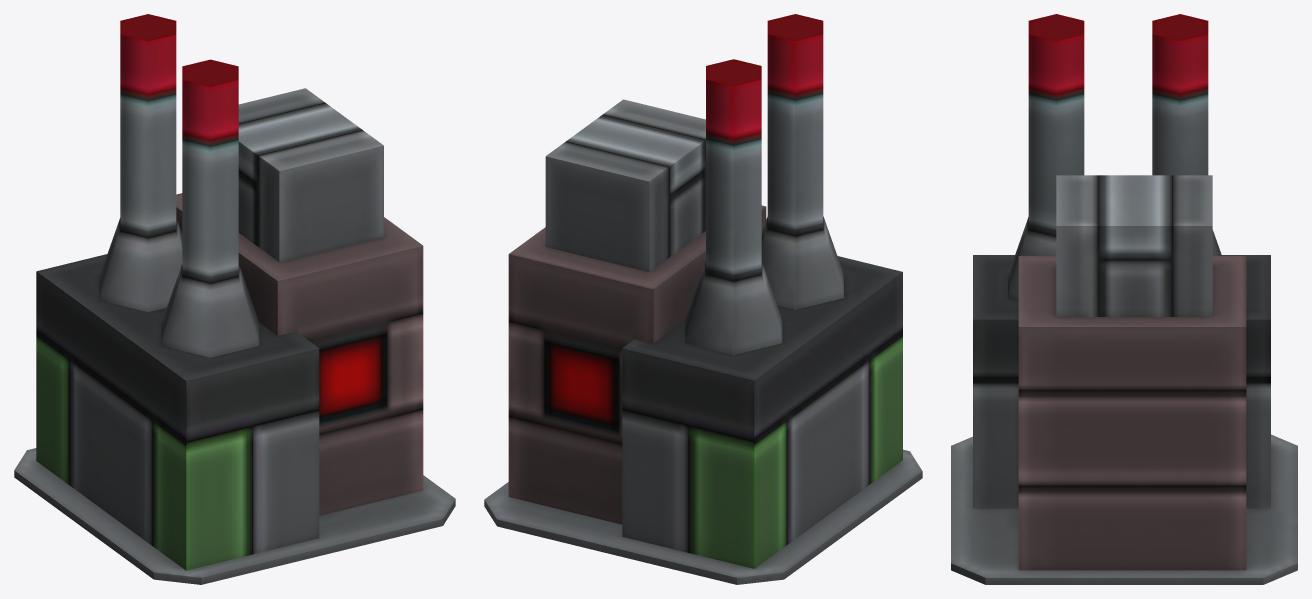
Rendered from russia_house_3.FBX.
3 renders of one model, left to right at view 1: azimuth 30°, elevation 25°; view 2: azimuth 150°, elevation 25°; view 3: azimuth 270°, elevation 25°, orthographic.
Parts seen in each view (by area): view 1: russia_house_3; view 2: russia_house_3; view 3: russia_house_3.
Part boxes in pixels (bbox=[...]): russia_house_3: bbox=[14, 14, 455, 584]; russia_house_3: bbox=[484, 14, 922, 584]; russia_house_3: bbox=[951, 14, 1297, 584].
Size of the model in its own units: 819 by 1186 by 819.
